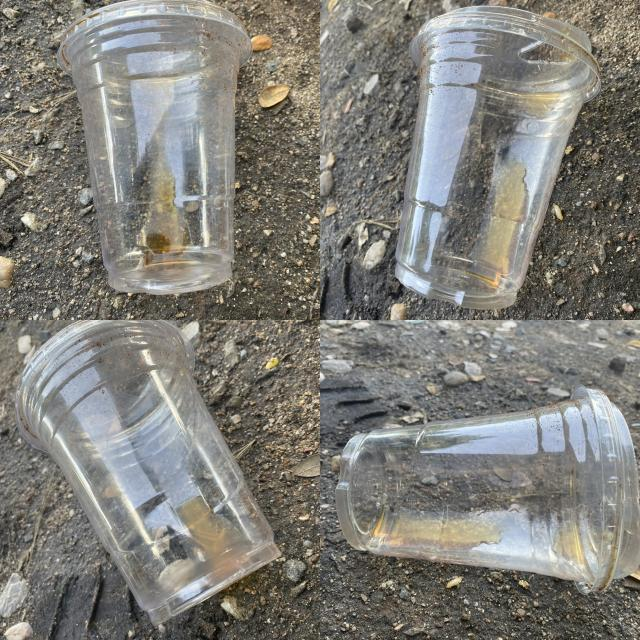Single-Use-Plastic: (16, 321, 280, 625), (335, 385, 640, 592), (395, 6, 599, 309), (58, 0, 251, 294)
